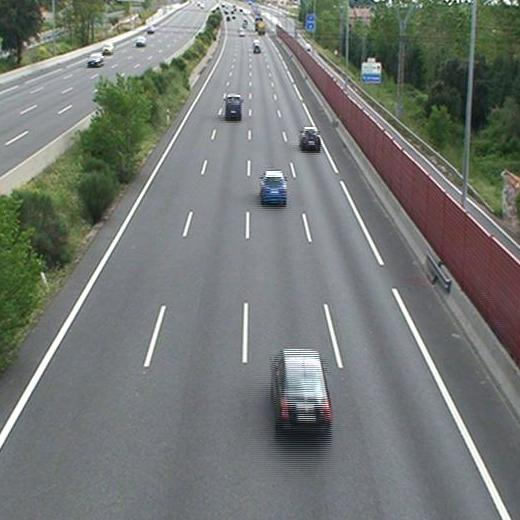car: (273, 350, 331, 427), (260, 171, 287, 202), (300, 128, 321, 147)
van: (225, 95, 242, 116)
